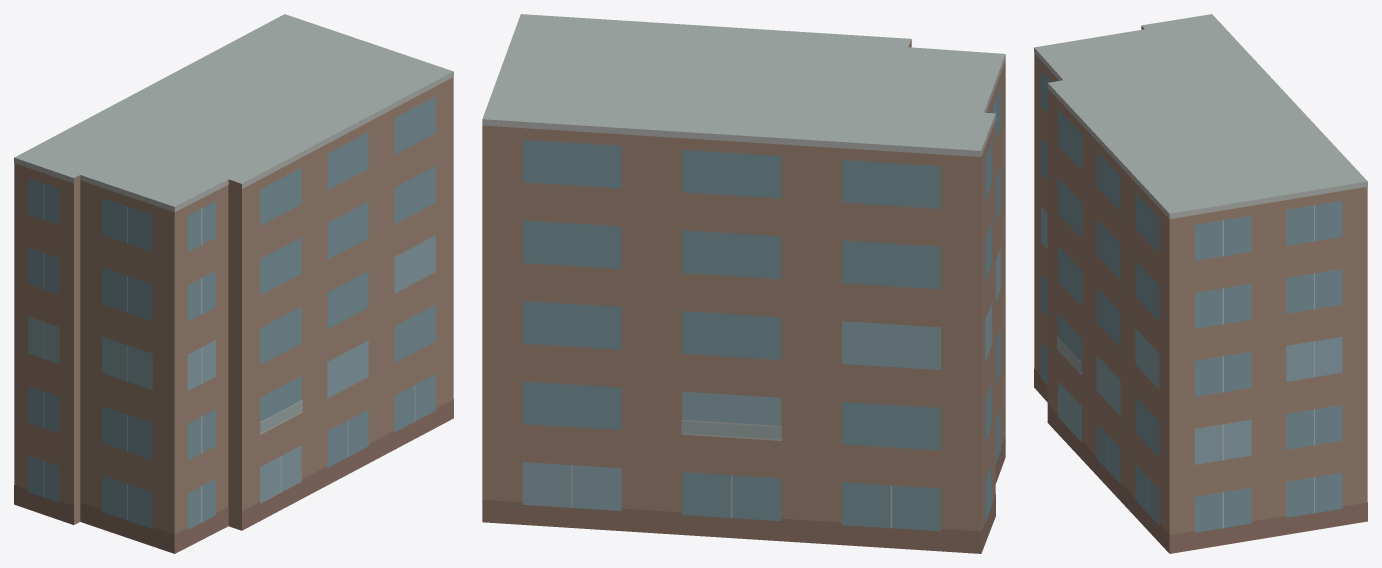
File: survey-upis-32916608.glb
3 views of the same model, side by side, from view 1: azimuth 30°, elevation 25°; view 2: azimuth 150°, elevation 25°; view 3: azimuth 270°, elevation 25° (orthographic). The views are drawn at different scales.
Parts seen in each view (by area): view 1: survey-upis-32916608.tmp; view 2: survey-upis-32916608.tmp; view 3: survey-upis-32916608.tmp.
Part boxes in pixels (x1=…): survey-upis-32916608.tmp: x1=14, y1=14, x2=453, y2=553; survey-upis-32916608.tmp: x1=482, y1=14, x2=1005, y2=553; survey-upis-32916608.tmp: x1=1034, y1=14, x2=1367, y2=553.
Bounding box in the file's own units: 19.74 × 15.65 × 13.93.
